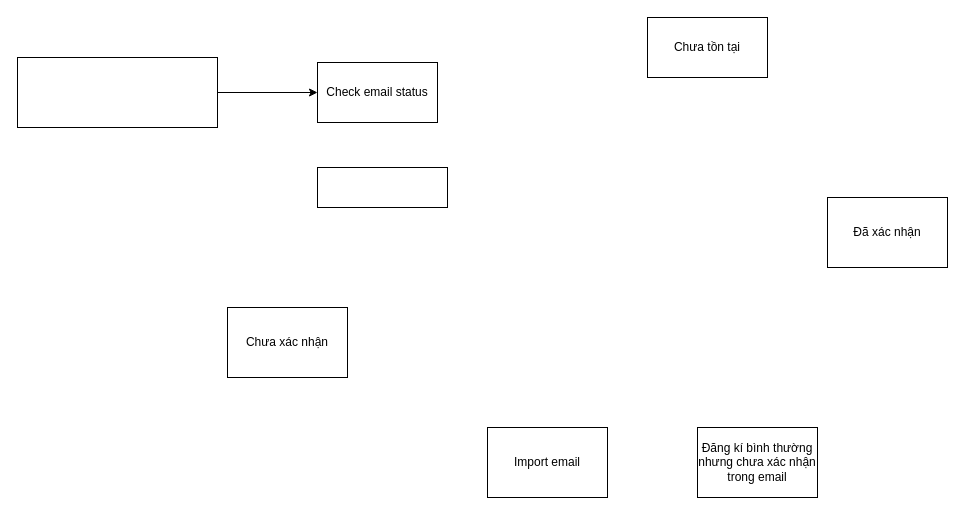
The diagram is 965 pixels wide and 515 high, and some of its shapes have lost their labels. The shapes that lost their labels are listed below. From the top down, each one's centre as x and y in pixels, then its label:
At point (117, 92): "Nhập email + pass".
At point (382, 187): "Đã tồn tại".
